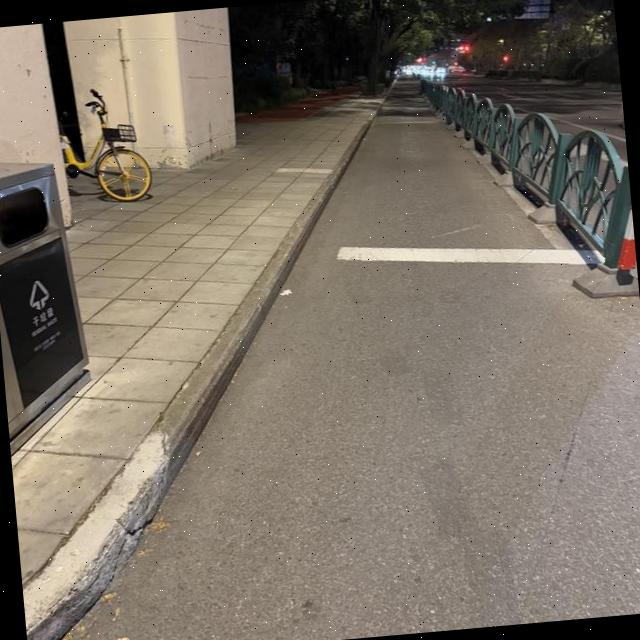curb: (22, 109, 376, 640)
